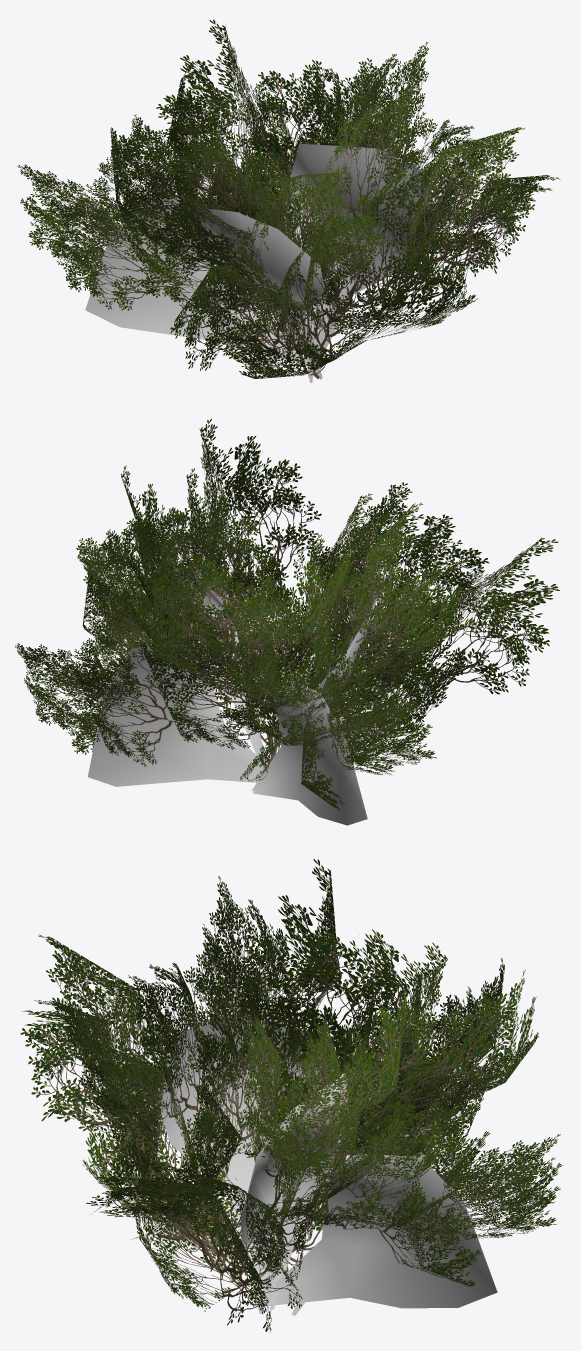
File: SM_Bush_01a.fbx
3 views of the same model, one above another, from view 1: azimuth 30°, elevation 25°; view 2: azimuth 150°, elevation 25°; view 3: azimuth 270°, elevation 25° (orthographic). The views are drawn at different scales.
Visible parts, largest first — view 1: SM_Bush_01a_LOD0; view 2: SM_Bush_01a_LOD0; view 3: SM_Bush_01a_LOD0.
Part boxes in pixels (x1,y1,x2,y2): SM_Bush_01a_LOD0: (17, 19, 560, 382); SM_Bush_01a_LOD0: (15, 419, 559, 825); SM_Bush_01a_LOD0: (20, 859, 562, 1332).
Size of the model in its own units: 502 by 453 by 331.
